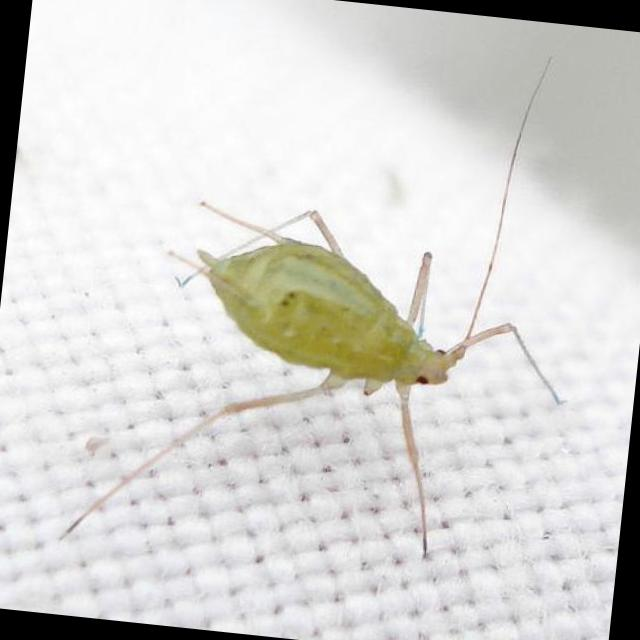aphid: (67, 110, 588, 573)
